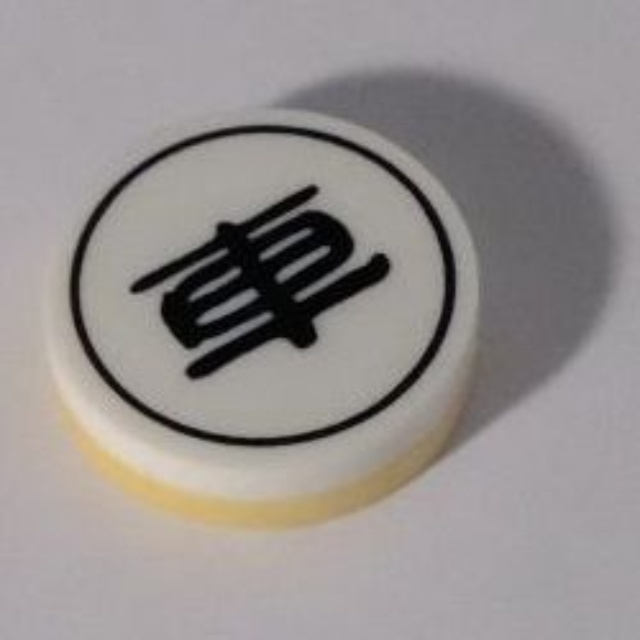black_xe: (41, 103, 497, 526)
